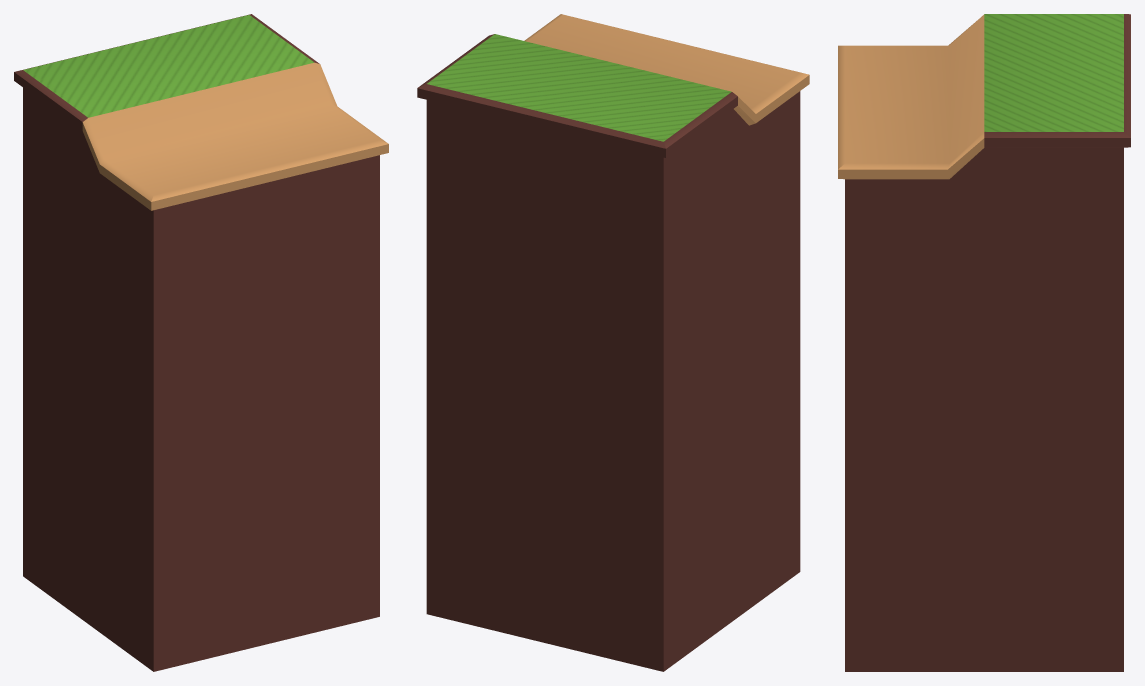
The model's file is Coast 1 R.fbx.
3 renders of one model, left to right at view 1: azimuth 30°, elevation 25°; view 2: azimuth 150°, elevation 25°; view 3: azimuth 270°, elevation 25°, orthographic. The views are drawn at different scales.
Parts seen in each view (by area): view 1: Coast_1_R; view 2: Coast_1_R; view 3: Coast_1_R.
Part boxes in pixels (bbox=[...]): Coast_1_R: bbox=[14, 14, 388, 671]; Coast_1_R: bbox=[417, 14, 809, 671]; Coast_1_R: bbox=[838, 14, 1130, 671].
Bounding box in the file's own units: 4.2 × 8.55 × 4.2.
